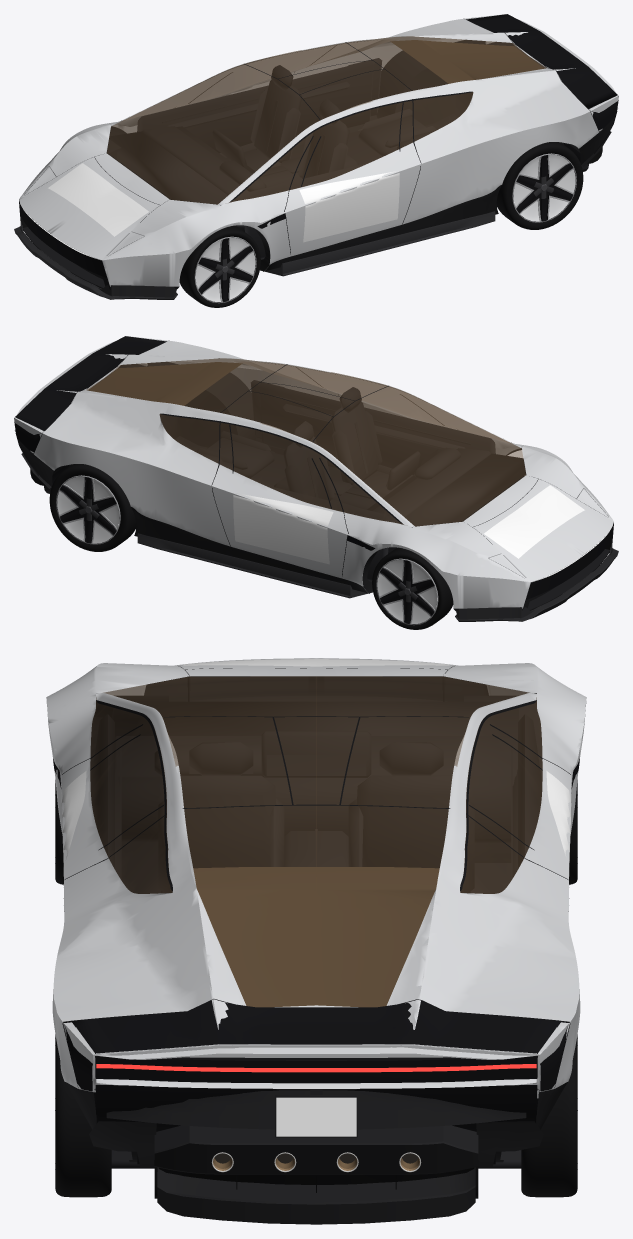
File: car_lod1.raw.glb
3 views of the same model, one above another, from view 1: azimuth 30°, elevation 25°; view 2: azimuth 150°, elevation 25°; view 3: azimuth 270°, elevation 25° (orthographic). The views are drawn at different scales.
Visible parts, largest first — view 1: Body, Decals, Wheel_RL_mesh, Wheel_FL_mesh, Thrusters, WingWell; view 2: Body, Decals, Wheel_RR_mesh, Wheel_FR_mesh, Thrusters, WingWell; view 3: Body, Thrusters, WingWell, Decals, Wheel_RR_mesh, Wheel_RL_mesh, Wheel_FL_mesh.
Boxes of the visible parts, <box> form: Body: <box>14,14,618,299</box>; Decals: <box>48,80,399,242</box>; Wheel_RL_mesh: <box>496,142,583,229</box>; Wheel_FL_mesh: <box>179,225,260,307</box>; Thrusters: <box>390,40,611,171</box>; WingWell: <box>466,14,618,129</box>; Body: <box>14,336,618,621</box>; Decals: <box>233,402,584,564</box>; Wheel_RR_mesh: <box>49,464,136,551</box>; Wheel_FR_mesh: <box>372,547,453,629</box>; Thrusters: <box>21,362,242,493</box>; WingWell: <box>14,336,166,451</box>; Body: <box>46,658,586,1168</box>; Thrusters: <box>89,867,543,1224</box>; WingWell: <box>62,1000,570,1091</box>; Decals: <box>61,659,571,1136</box>; Wheel_RR_mesh: <box>521,1034,577,1197</box>; Wheel_RL_mesh: <box>55,1034,111,1197</box>; Wheel_FL_mesh: <box>55,717,102,884</box>.
Size of the model in its own units: 5.12 by 1.35 by 2.27.
